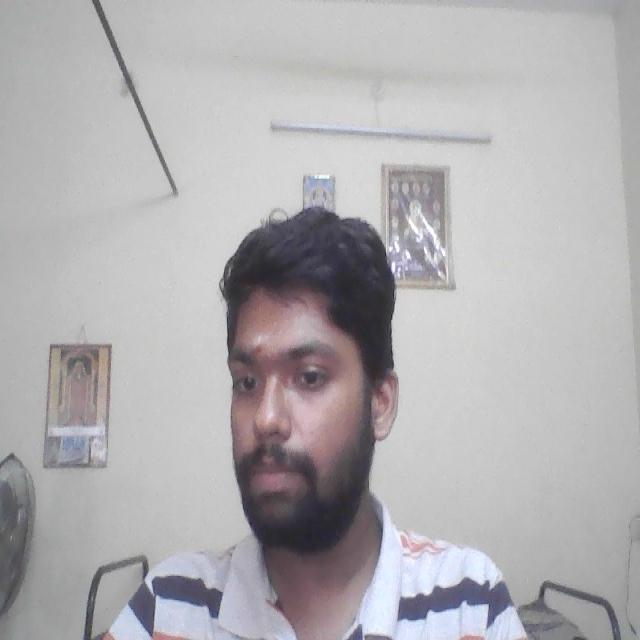Focused: (222, 298, 384, 504)
